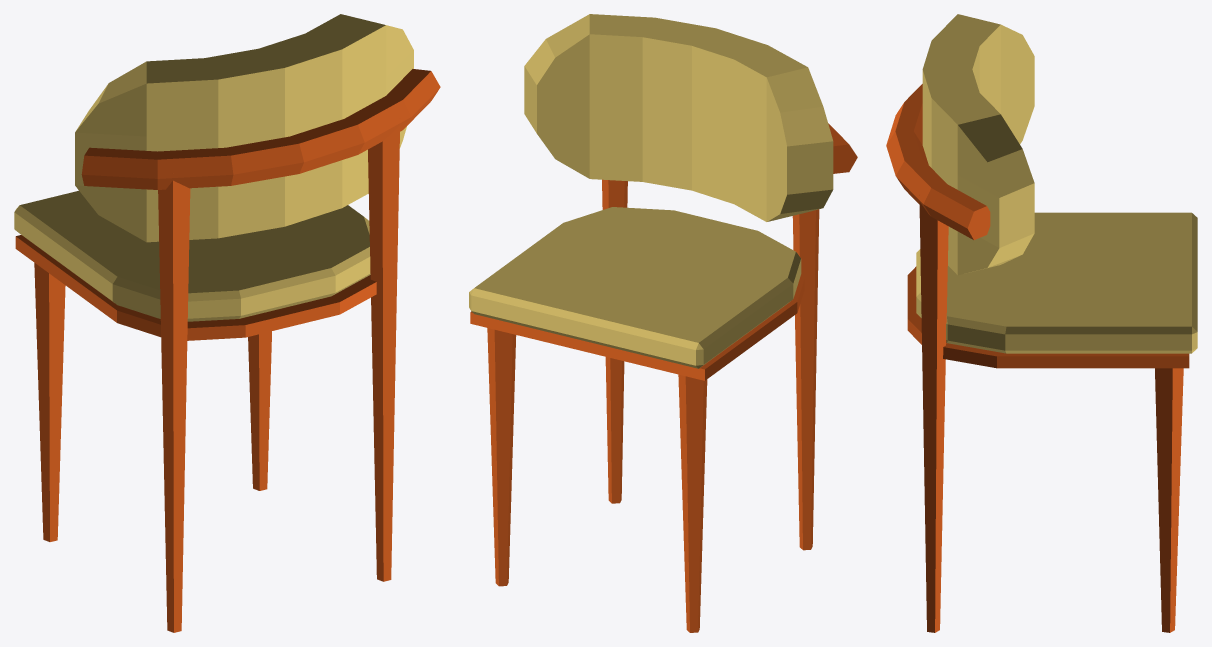
Rendered from Dining Chair 2.fbx.
3 renders of one model, left to right at view 1: azimuth 30°, elevation 25°; view 2: azimuth 150°, elevation 25°; view 3: azimuth 270°, elevation 25°, orthographic. The views are drawn at different scales.
Parts seen in each view (by area): view 1: Node 0; view 2: Node 0; view 3: Node 0.
Boxes of the visible parts, left/top/right/bottom form: Node 0: left=14, top=14, right=440, bottom=632; Node 0: left=469, top=14, right=857, bottom=632; Node 0: left=886, top=14, right=1197, bottom=632.
Size of the model in its own units: 0.5247 by 0.9516 by 0.6616.
